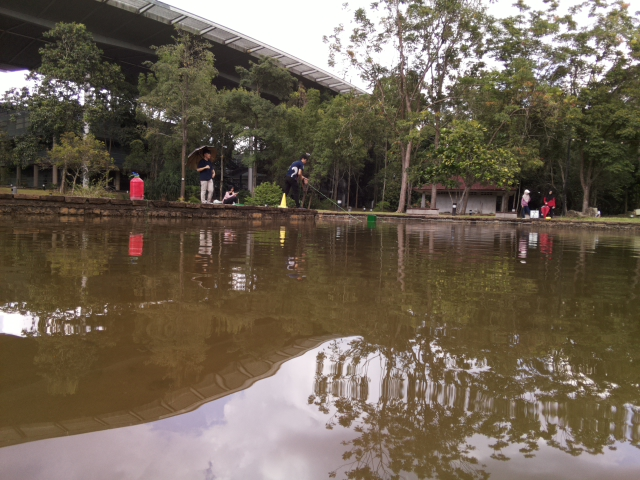checkpoint: (278, 192, 290, 210)
obstacle: (366, 213, 378, 223)
